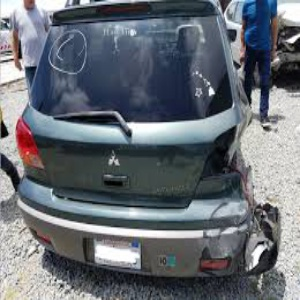bumper: (186, 200, 286, 279)
